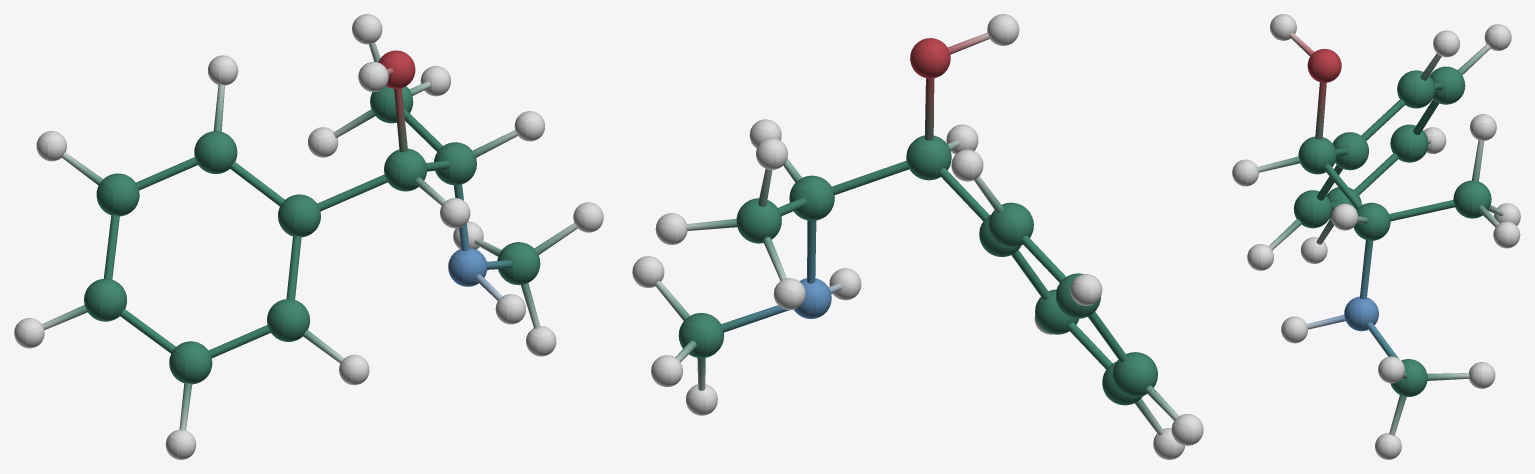
File: Pseudoephedrine.fbx
3 renders of one model, left to right at view 1: azimuth 30°, elevation 25°; view 2: azimuth 150°, elevation 25°; view 3: azimuth 270°, elevation 25°, orthographic. The views are drawn at different scales.
Visible parts, largest first — view 1: curMeshHyperballExportedMesh; view 2: curMeshHyperballExportedMesh; view 3: curMeshHyperballExportedMesh.
Boxes of the visible parts, x1=… form: curMeshHyperballExportedMesh: x1=14, y1=14, x2=603, y2=459; curMeshHyperballExportedMesh: x1=632, y1=14, x2=1203, y2=459; curMeshHyperballExportedMesh: x1=1232, y1=14, x2=1520, y2=459.
Bounding box in the file's own units: 8.5 × 5.65 × 4.28.
